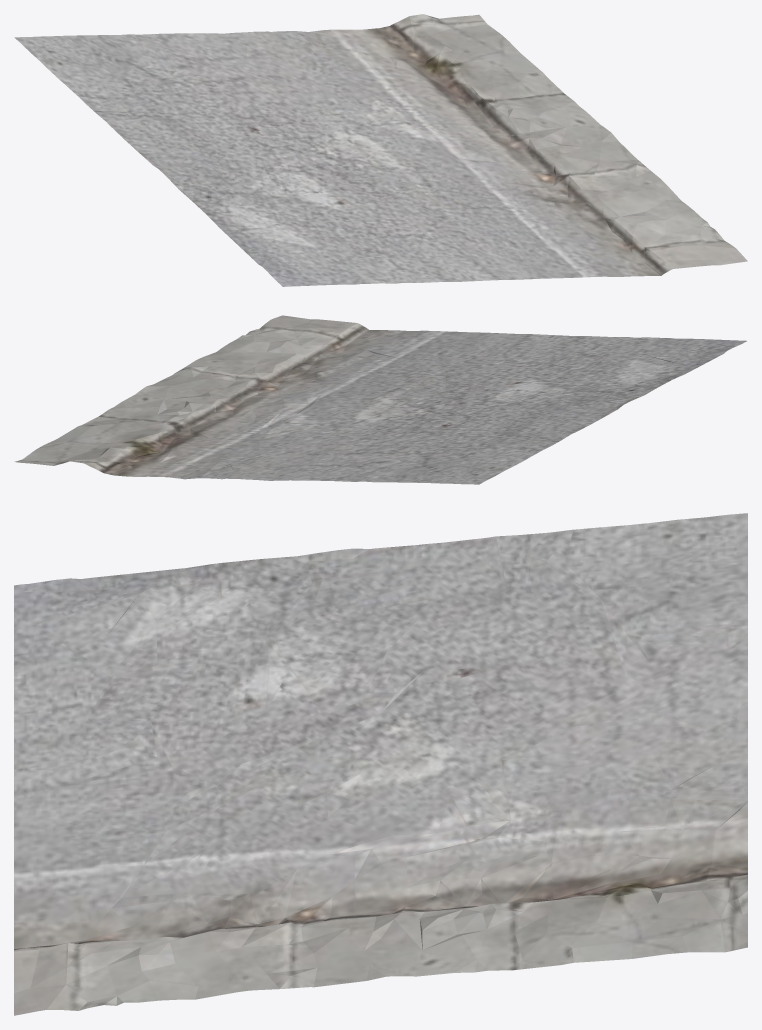
The picture shows the model from 3 angles, top to bottom: view 1: azimuth 30°, elevation 25°; view 2: azimuth 150°, elevation 25°; view 3: azimuth 270°, elevation 25°; orthographic projection. The views are drawn at different scales.
Size of the model in its own units: 3.35 by 0.9693 by 3.35.
Materials: 3 (3 with a texture image).
